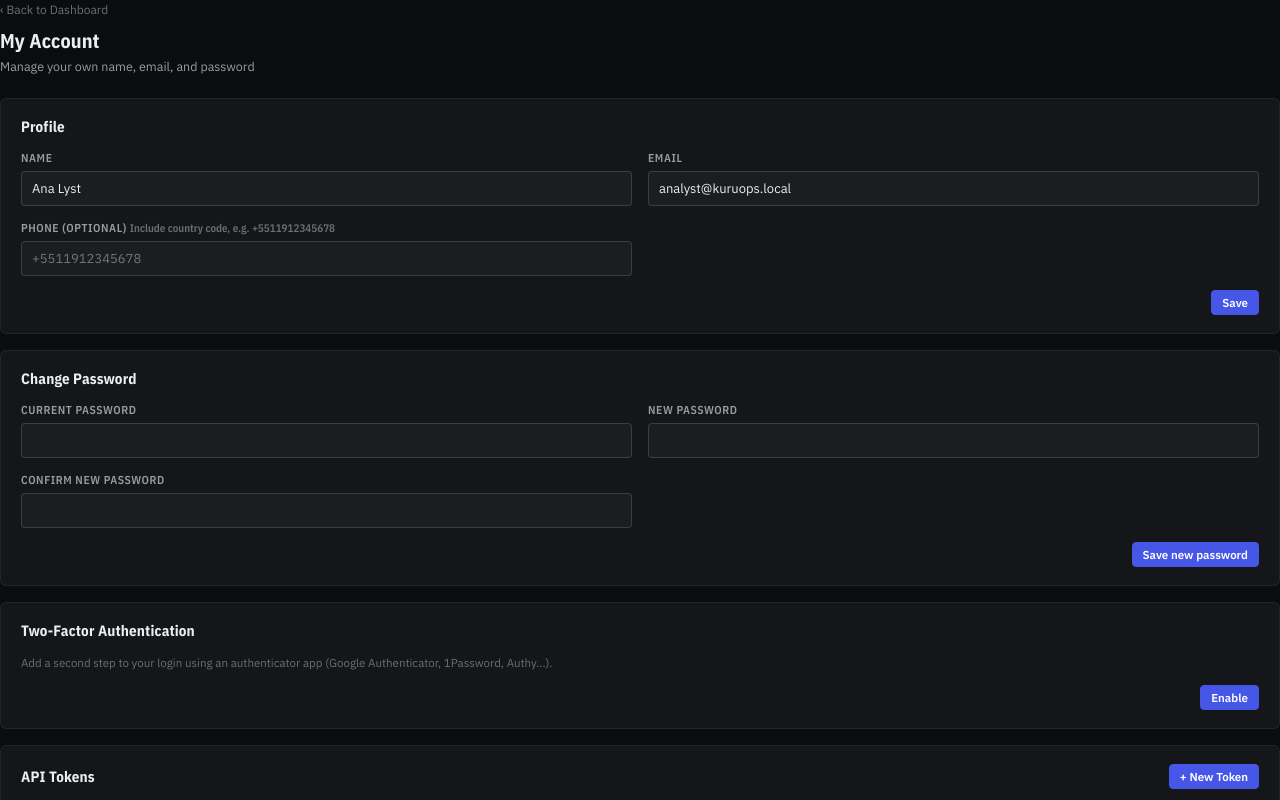
Test: ProfilePage › API Tokens: creating one shows the plaintext once, then lists it
The image size is (1280, 800).
Click the button "+ New Token" at (1214, 777), box [1169,764,1259,789]
(page scrolled)
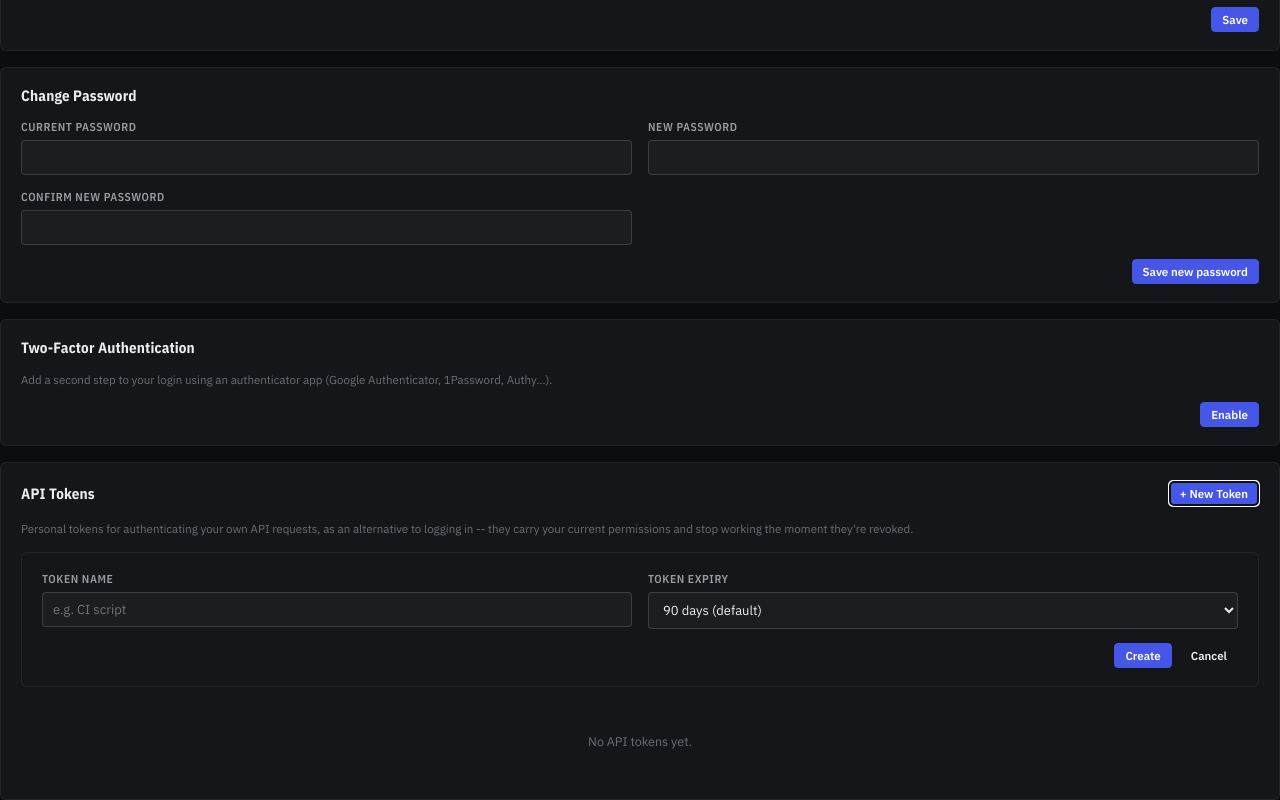
Type "CI script" into the field labelled "Token Name" at (337, 609), box [42,592,632,626]
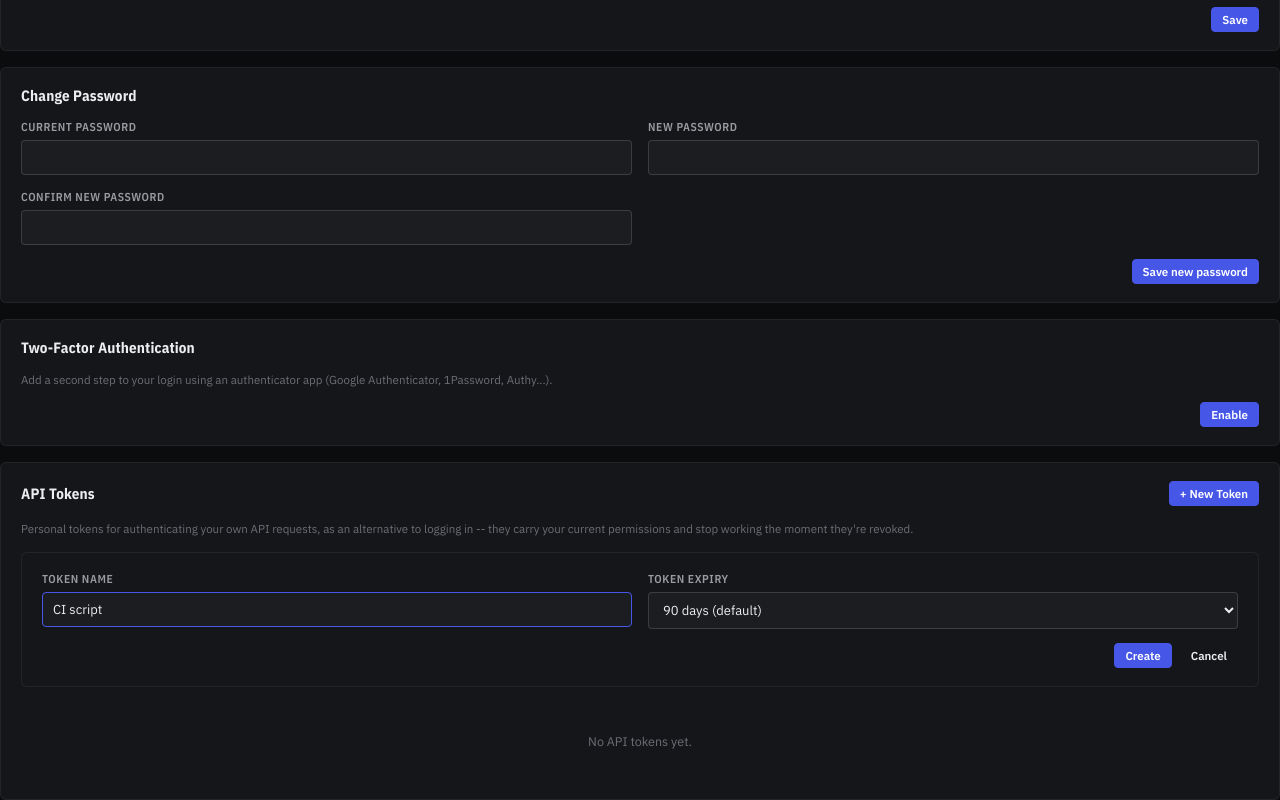
Click the button "Create" at (1143, 655), box [1114,642,1172,668]
(page scrolled)
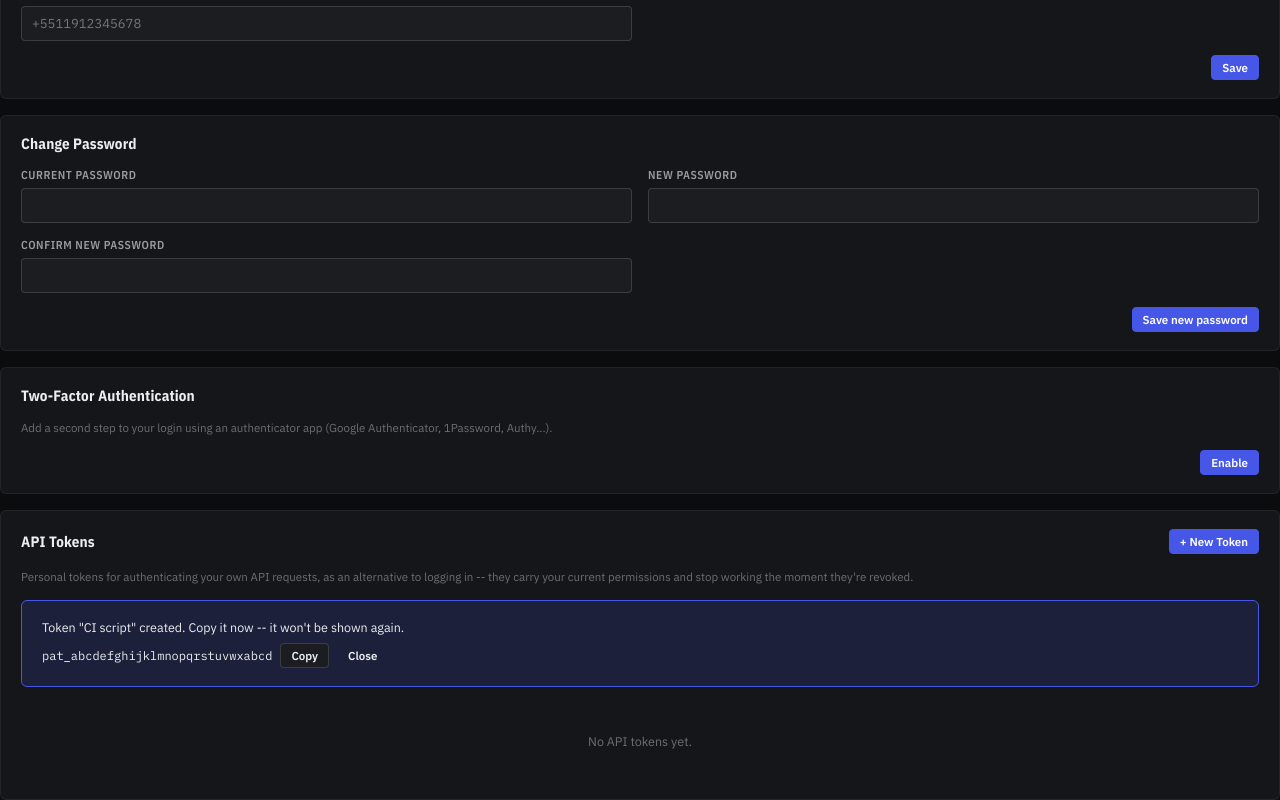
Now the text "pat_abcdefghijklmnopqrstuvwxabcd" is shown, box [42,648,272,662]
